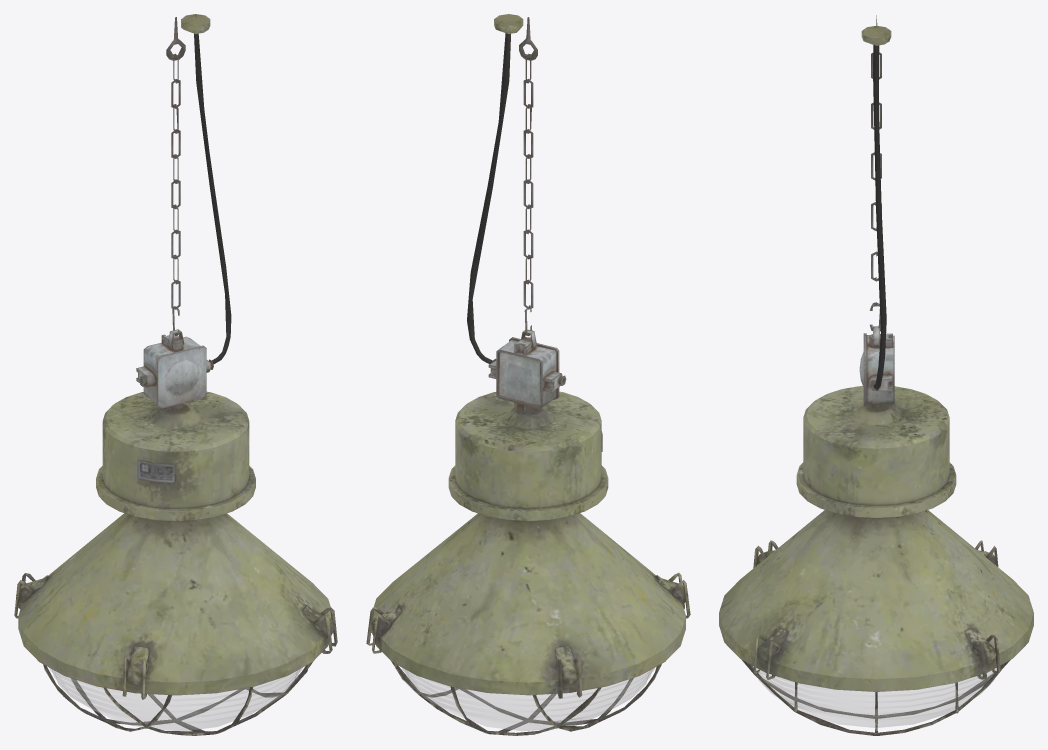
The model's file is hanging_lamp.glb.
3 renders of one model, left to right at view 1: azimuth 30°, elevation 25°; view 2: azimuth 150°, elevation 25°; view 3: azimuth 270°, elevation 25°, orthographic.
Visible parts, largest first — view 1: hanging_industrial_lamp; view 2: hanging_industrial_lamp; view 3: hanging_industrial_lamp.
Boxes of the visible parts, box(x1,y1,x2,y2) form: hanging_industrial_lamp: box(14, 14, 337, 735); hanging_industrial_lamp: box(366, 14, 690, 735); hanging_industrial_lamp: box(719, 15, 1033, 735).
Bounding box in the file's own units: 0.5496 × 1.36 × 0.5496.
Materials: 2 (1 with a texture image).
